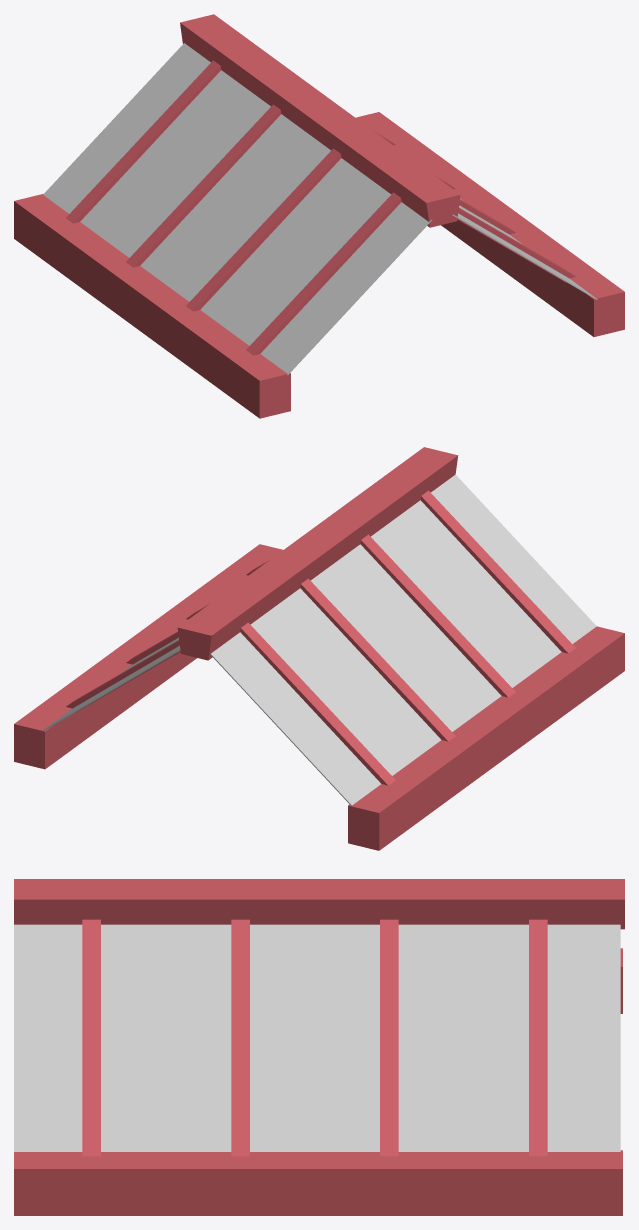
The model's file is GlasRoofUnity.dae.
3 renders of one model, top to bottom at view 1: azimuth 30°, elevation 25°; view 2: azimuth 150°, elevation 25°; view 3: azimuth 270°, elevation 25°, orthographic. The views are drawn at different scales.
Visible parts, largest first — view 1: Roof; view 2: Roof; view 3: Roof.
Boxes of the visible parts, box(x1,y1,x2,y2) form: Roof: box(14, 14, 624, 418); Roof: box(14, 447, 624, 850); Roof: box(14, 879, 624, 1215).
Size of the model in its own units: 4.59 by 5.37 by 2.1.
